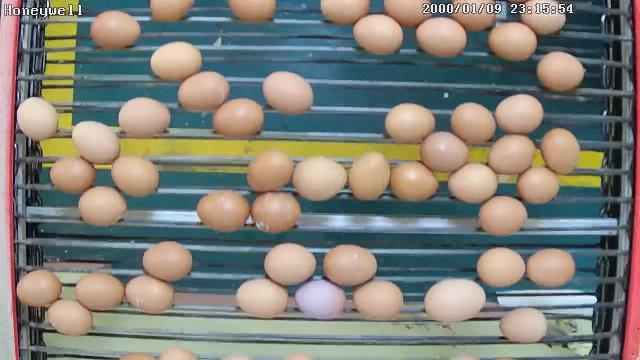egg: (423, 276, 488, 322), (292, 156, 348, 202), (264, 240, 317, 288), (262, 69, 316, 116), (196, 188, 251, 234), (322, 243, 378, 288), (142, 238, 194, 286), (446, 160, 499, 206), (119, 96, 173, 140), (294, 276, 348, 320), (72, 118, 122, 165), (248, 191, 302, 234), (90, 8, 142, 52), (212, 96, 264, 140), (352, 12, 404, 56), (384, 100, 436, 144), (352, 278, 404, 322), (179, 69, 232, 112), (236, 276, 290, 318), (149, 40, 204, 81), (246, 148, 295, 194), (348, 150, 391, 202), (415, 15, 468, 57), (488, 130, 536, 176), (390, 158, 440, 202), (420, 130, 470, 174), (478, 194, 528, 238), (536, 50, 586, 94), (110, 154, 161, 197), (76, 184, 128, 226), (494, 91, 544, 134), (124, 274, 176, 315), (528, 246, 576, 290), (76, 272, 126, 314), (476, 246, 526, 288), (487, 20, 538, 61), (16, 266, 63, 310), (540, 127, 582, 176), (16, 96, 58, 142), (451, 101, 497, 143), (46, 298, 94, 338), (516, 165, 562, 206), (49, 156, 96, 195), (500, 308, 550, 344)
